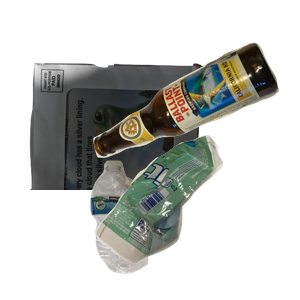glass: (91, 40, 300, 190)
paper: (27, 60, 223, 240)
plastic: (88, 158, 229, 300)
trash: (92, 133, 300, 300)
